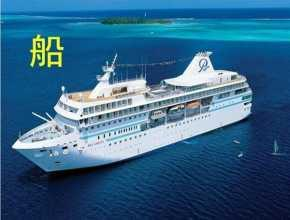youlun: (9, 42, 255, 176)
